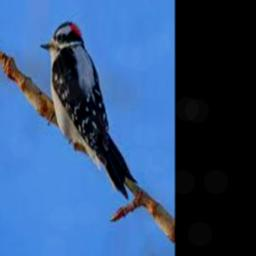Woodpecker: (39, 21, 136, 198)
